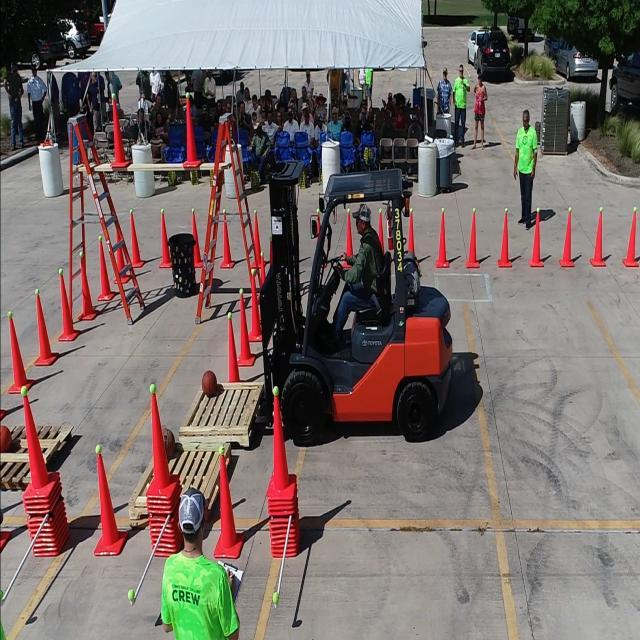person: (262, 165, 450, 438), (160, 482, 236, 640), (511, 104, 539, 216), (453, 61, 468, 145), (28, 66, 47, 123), (473, 73, 487, 144), (284, 109, 298, 132), (300, 113, 313, 133)
